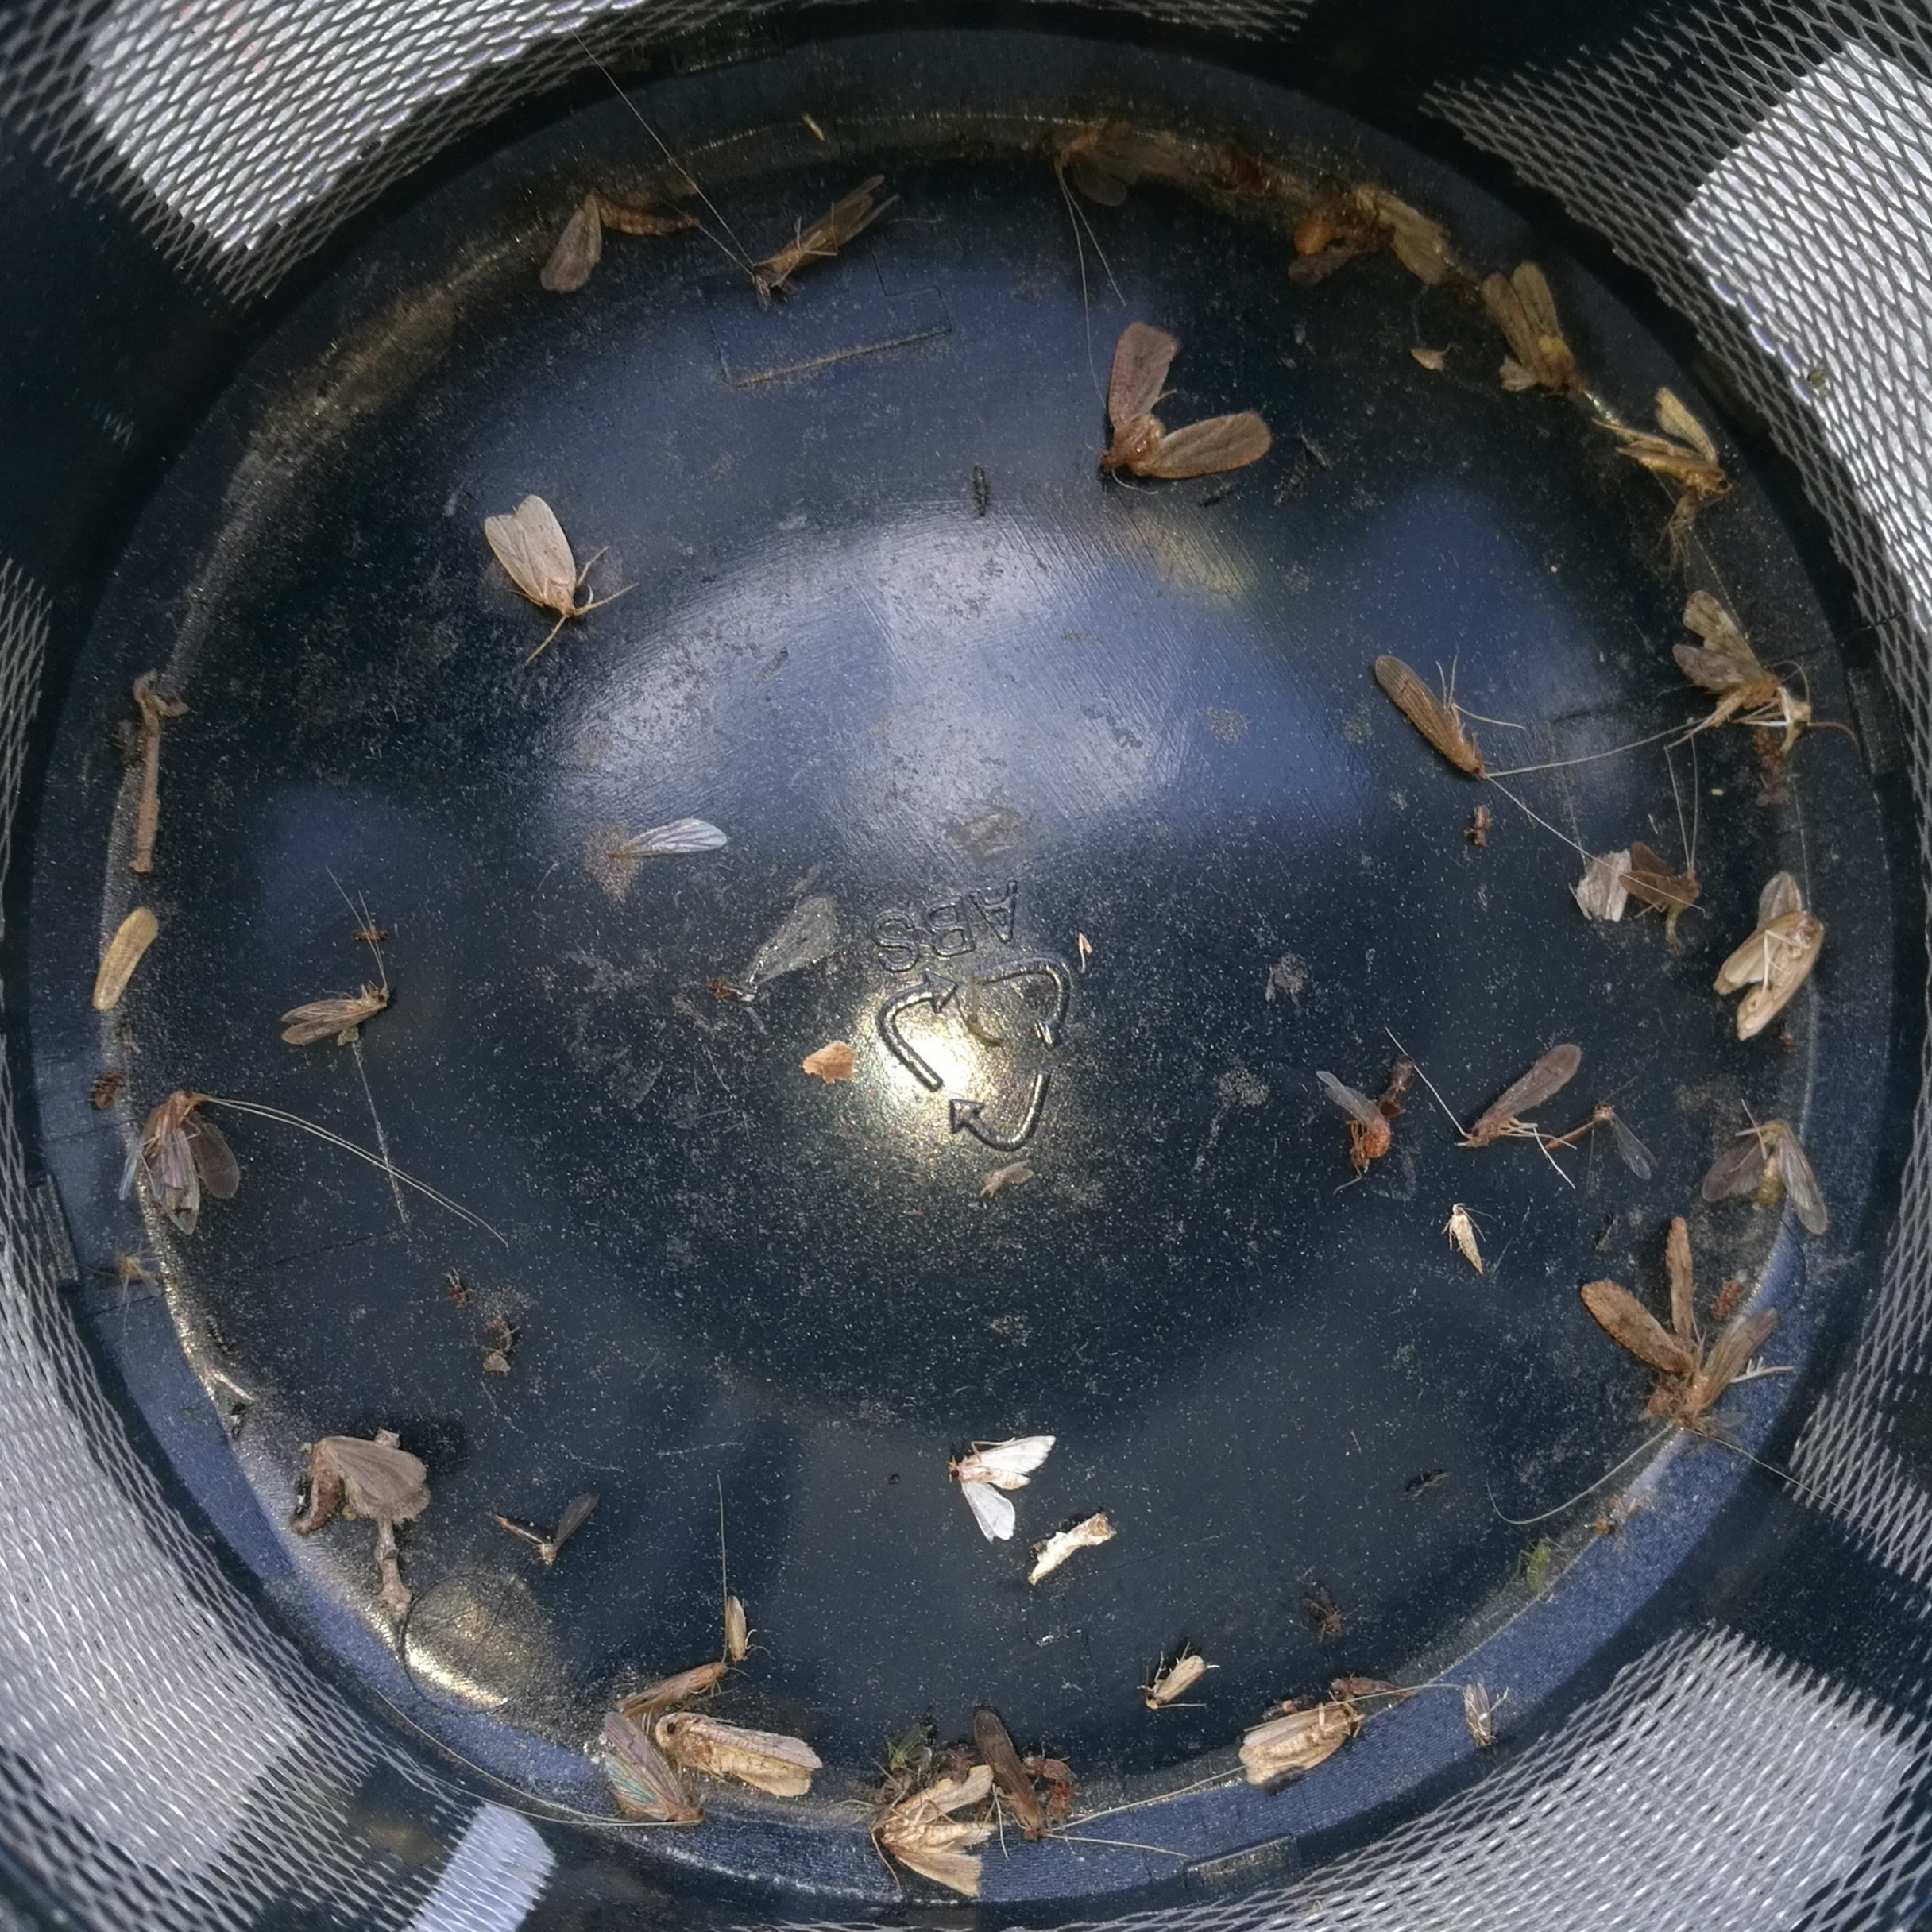mosquito: (1371, 655, 1488, 780), (761, 179, 899, 285), (1465, 1040, 1583, 1154), (603, 1711, 697, 1824), (1691, 1302, 1771, 1417), (278, 991, 389, 1042), (619, 1656, 734, 1704), (1136, 1644, 1208, 1707)
moth: (1097, 324, 1269, 481), (1674, 593, 1778, 755), (1704, 908, 1826, 1039), (485, 483, 582, 623), (1707, 1115, 1819, 1235), (655, 1714, 819, 1794), (1490, 260, 1580, 398), (950, 1430, 1058, 1539), (1231, 1706, 1359, 1789)
